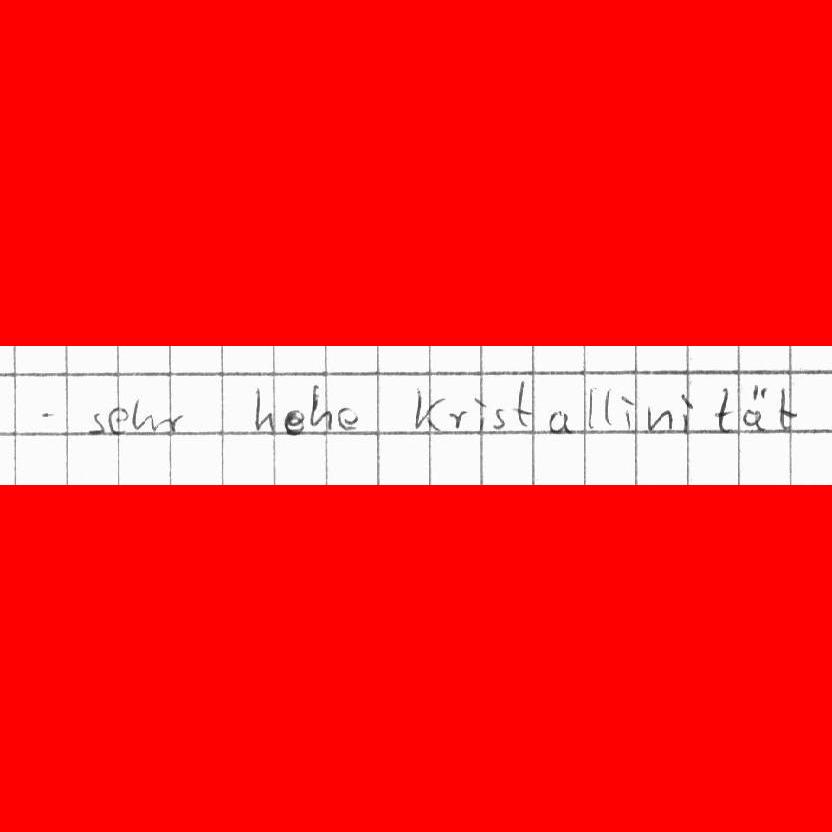Char: (412, 384, 444, 433), (741, 383, 769, 433), (251, 383, 276, 433), (308, 384, 334, 432), (511, 379, 532, 431), (775, 384, 798, 431), (713, 385, 734, 433), (546, 406, 575, 436), (678, 390, 699, 431), (646, 402, 672, 433), (618, 390, 637, 431), (131, 396, 151, 431), (472, 394, 489, 431), (155, 411, 183, 433), (284, 407, 305, 436), (337, 407, 361, 431), (109, 407, 129, 434), (89, 408, 107, 435), (586, 385, 596, 430), (603, 387, 614, 426), (449, 408, 468, 429), (492, 406, 507, 431), (37, 404, 55, 423)
